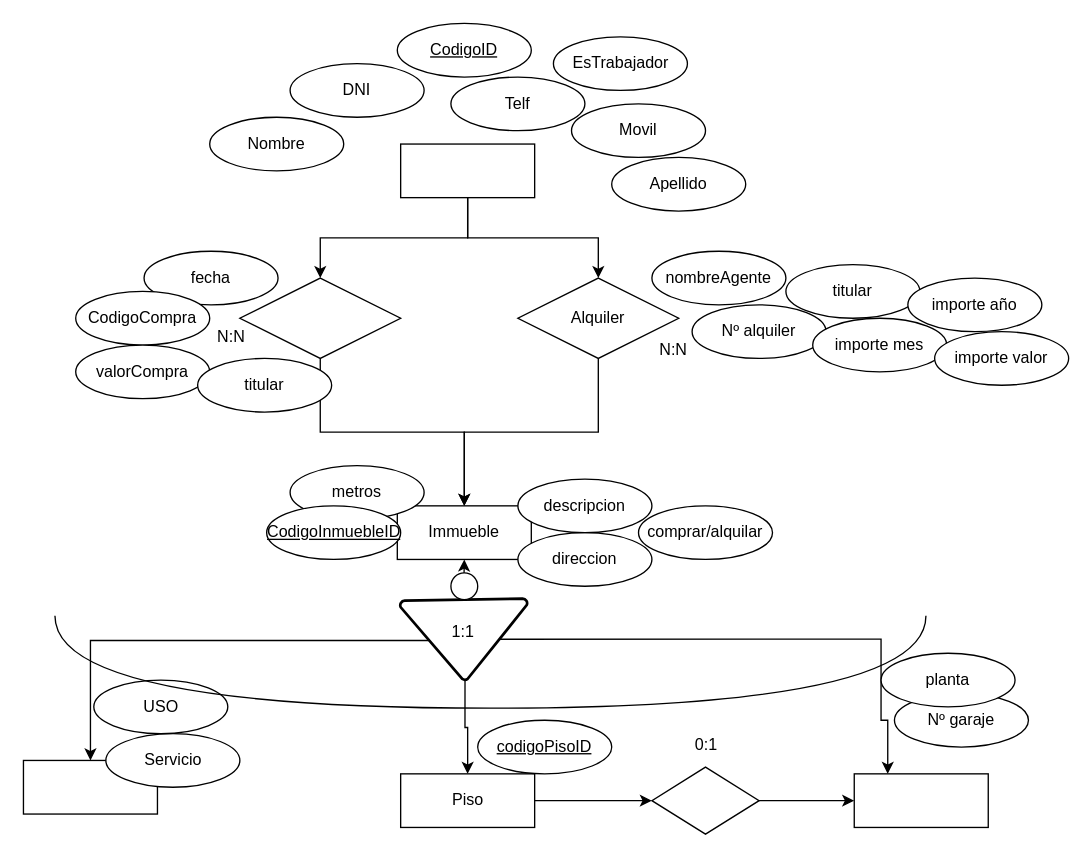
Image size: 1092x858. Some labels were removed from this diagram. The shapes that lost their labels are listed below. From the top down, each one's centre as x and y in pixels, then its label:
point 467,170: Persona
point 320,317: Comprar
point 89,786: locales
point 705,800: tiene
point 920,800: garajes
